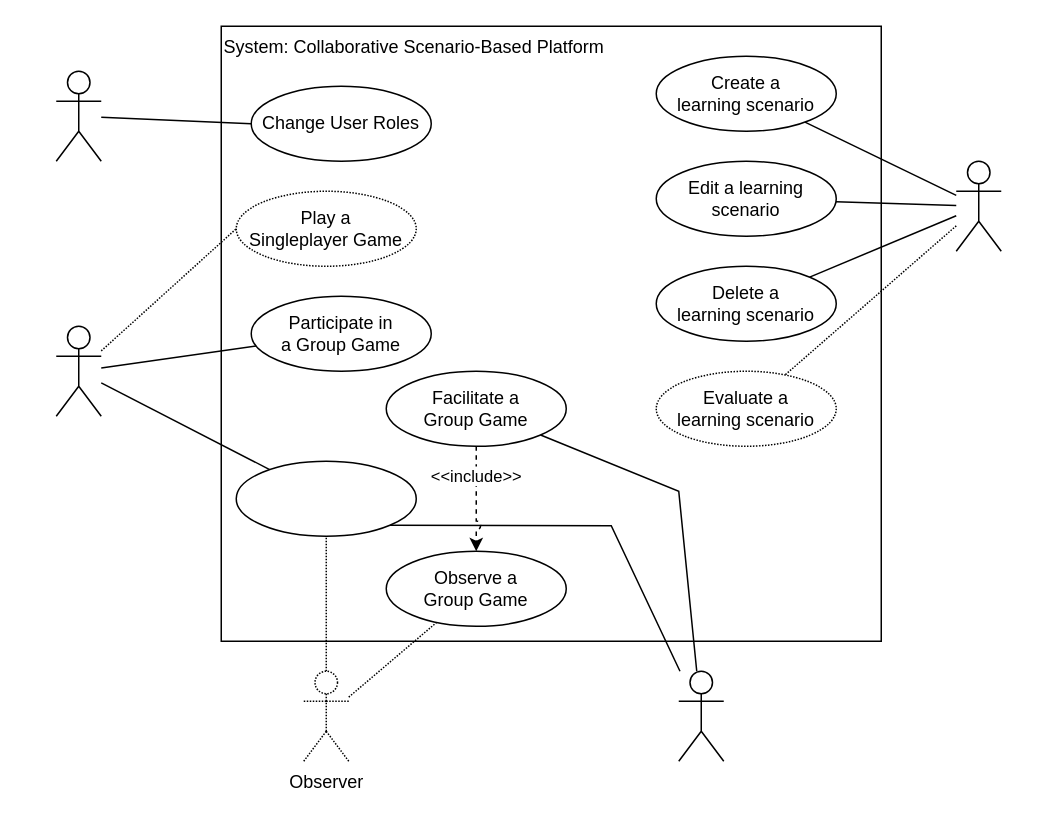
Image size: 1041x819. Some labels were removed from this diagram. The shapes that lost their labels are listed below. From the top down, each one's box as (x1, y1, x2, y2) in pixels, then its label:
(55, 70, 101, 161): System Administrator
(955, 160, 1001, 251): Scenario Designer
(55, 325, 101, 416): Participant
(235, 460, 416, 536): Evaluate a Group Game
(677, 670, 724, 761): Trainer
